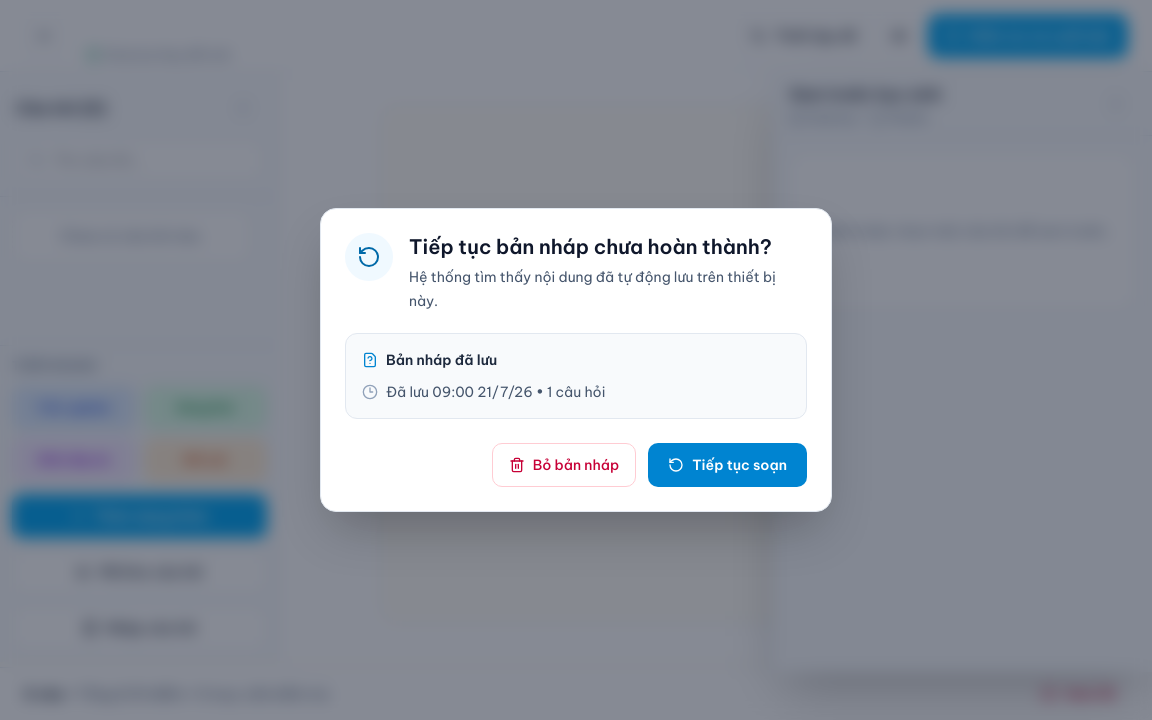
it: manual quiz draft recovery › continues the latest local draft after a reload-like entry
Expected: the dialog "Tiếp tục bản nháp chưa hoàn thành?" is shown, [320, 208, 832, 512]
Expected: the text "Bản nháp đã lưu" is shown, [386, 350, 497, 370]
Click the button "Tiếp tục soạn": (728, 465) [648, 443, 807, 487]
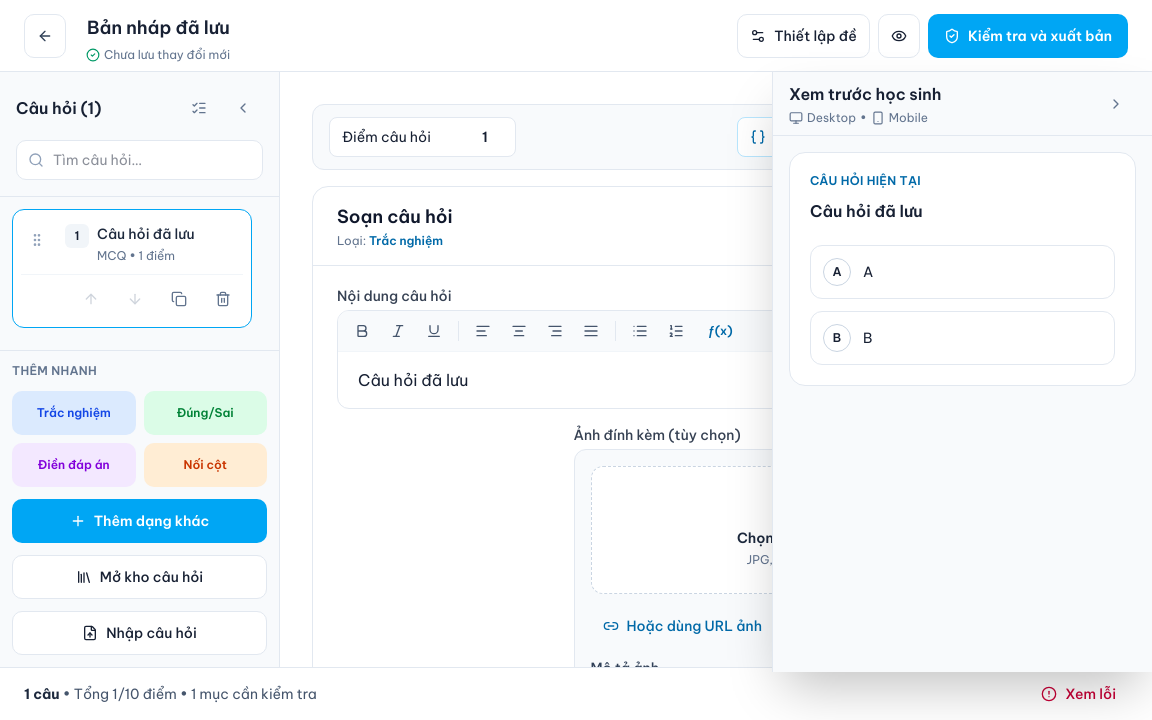
Expected: the field showing "Bản nháp đã lưu" is shown, [78, 8, 725, 46]
Expected: the 2nd text "Câu hỏi đã lưu" is shown, [97, 225, 194, 243]
